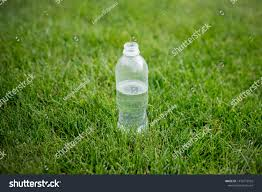plastic_bottle: (114, 42, 151, 141)
